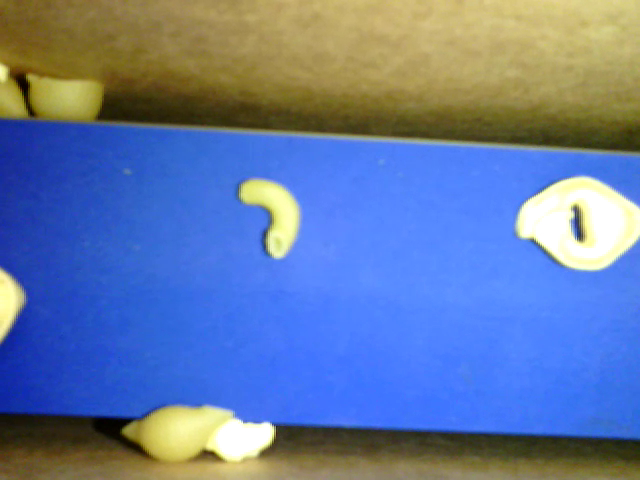elbow: (239, 178, 303, 258)
shell: (119, 402, 235, 461), (27, 73, 104, 120)
tortellini: (516, 176, 639, 270)
